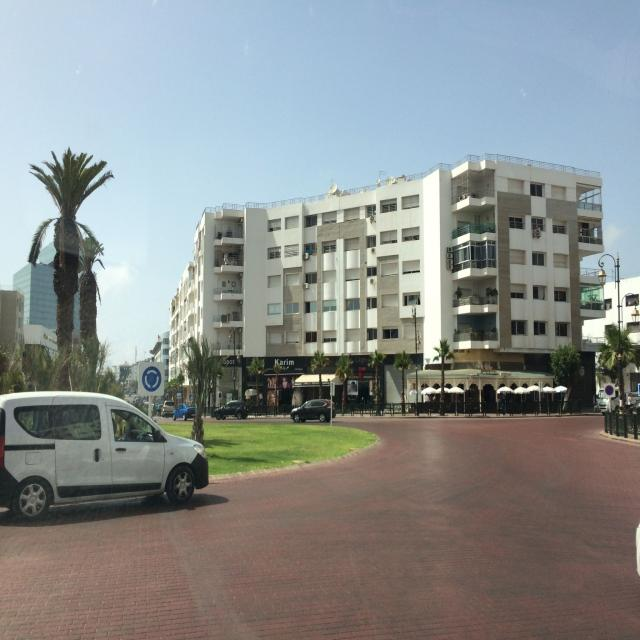forb_stopping: (604, 385, 613, 395)
